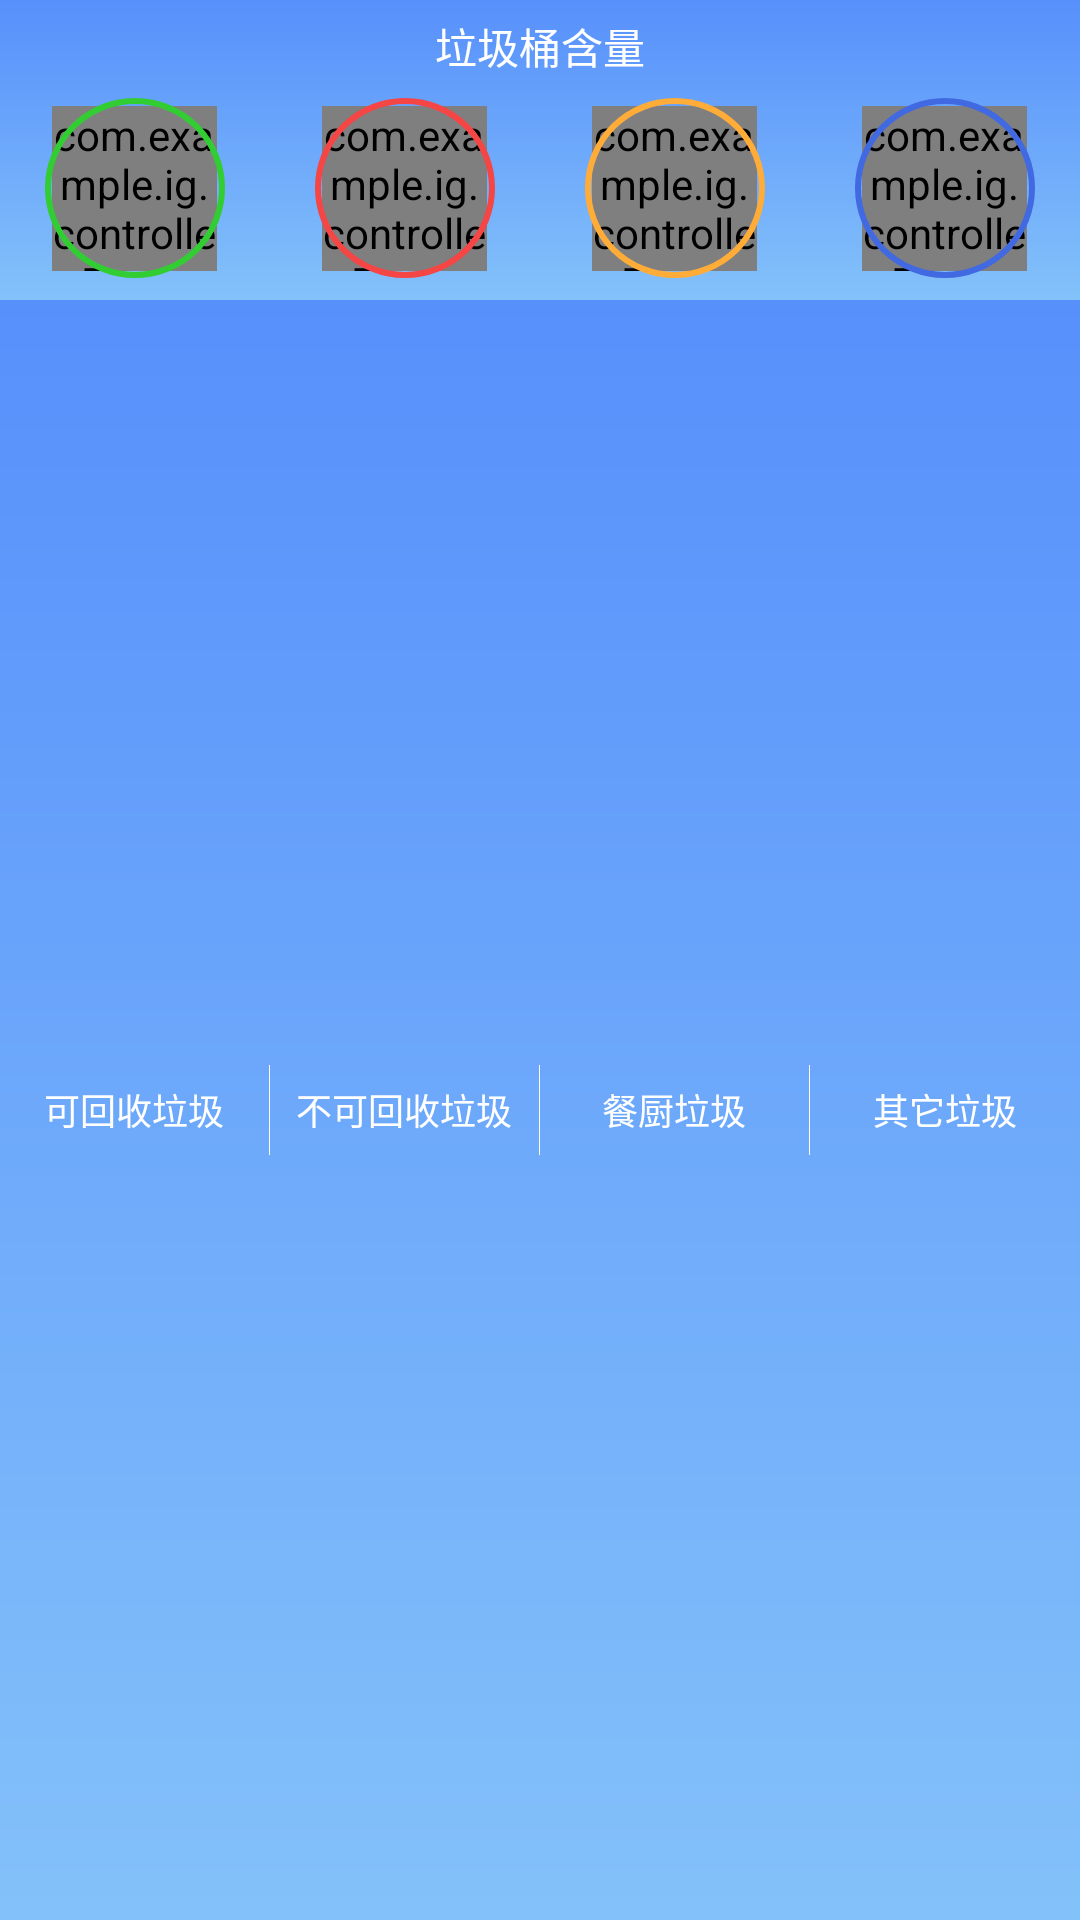

Screen size 1080x1920. Icon name, then its center in pixels as point (x, y):
ring: point (135, 188), point (405, 188), point (675, 188), point (945, 188)
